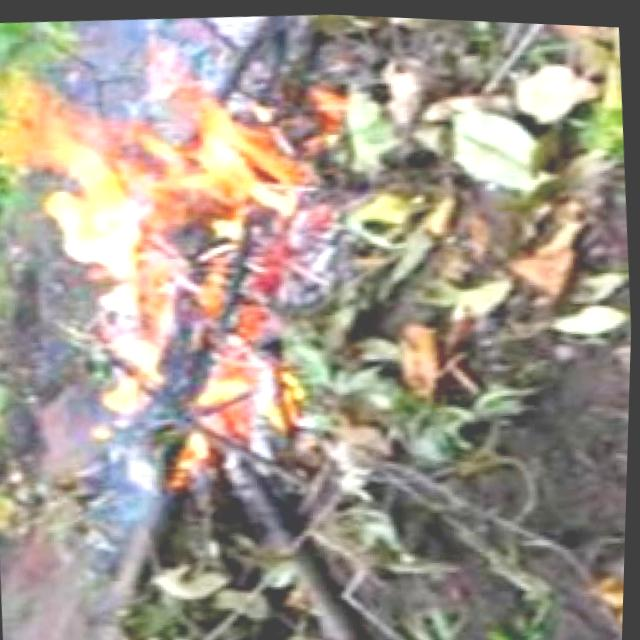Fire: (0, 40, 313, 488)
